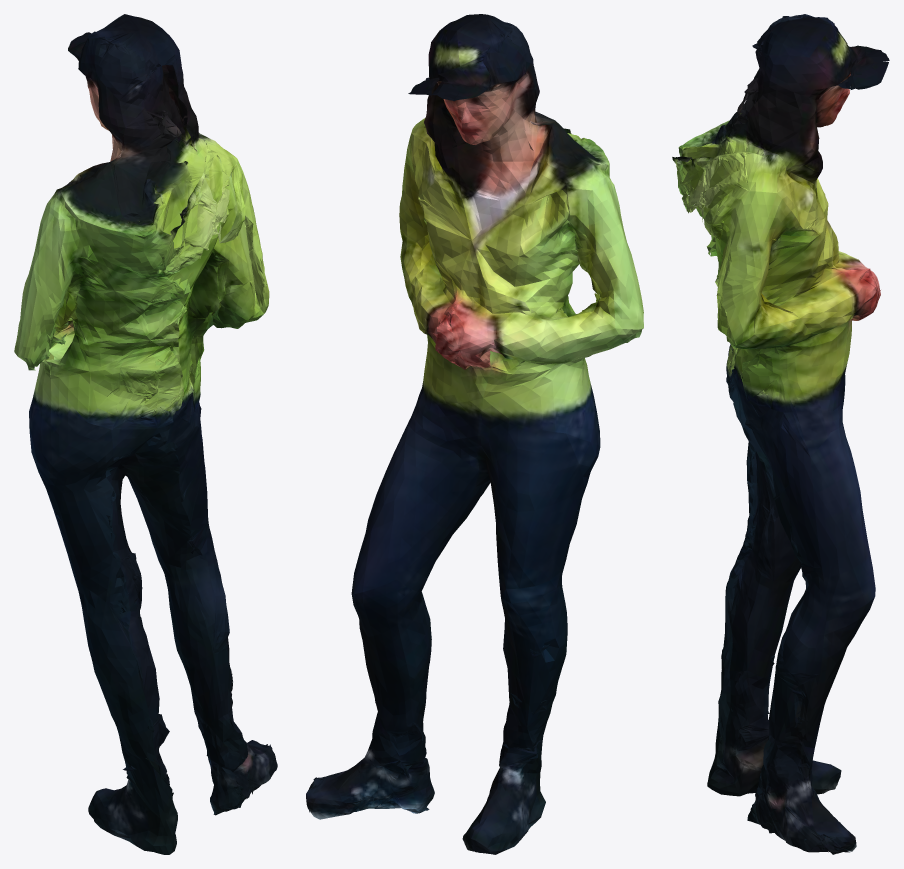
3 renders of one model, left to right at view 1: azimuth 30°, elevation 25°; view 2: azimuth 150°, elevation 25°; view 3: azimuth 270°, elevation 25°, orthographic. The views are drawn at different scales.
Parts seen in each view (by area): view 1: dec_0005; view 2: dec_0005; view 3: dec_0005.
Part boxes in pixels (box(x1,y1,x2,y2)): dec_0005: box(14, 14, 277, 854); dec_0005: box(306, 14, 643, 854); dec_0005: box(672, 14, 889, 854).
Size of the model in its own units: 0.6742 by 1.77 by 0.4489.
Materials: 1 (1 with a texture image).
